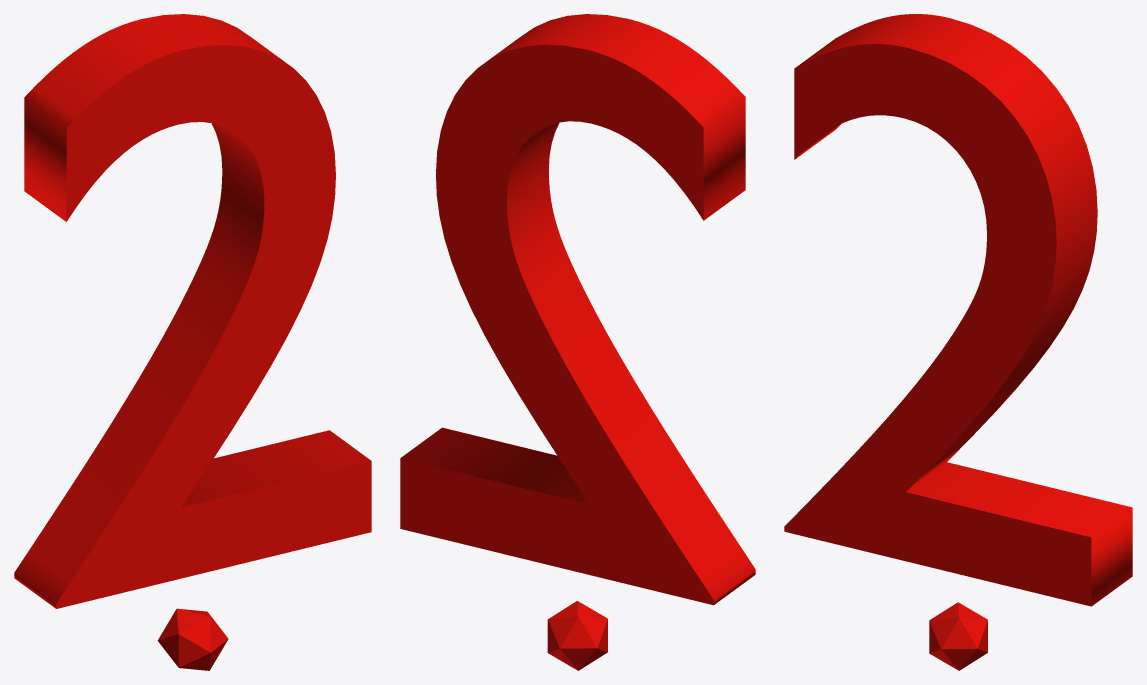
The picture shows the model from 3 angles, left to right: view 1: azimuth 30°, elevation 25°; view 2: azimuth 150°, elevation 25°; view 3: azimuth 330°, elevation 25°; orthographic projection. The views are drawn at different scales.
Parts seen in each view (by area): view 1: 2; view 2: 2; view 3: 2.
Part boxes in pixels (bbox=[...]): 2: bbox=[14, 14, 371, 670]; 2: bbox=[400, 14, 755, 670]; 2: bbox=[784, 14, 1132, 670].
Size of the model in its own units: 0.432 by 0.8377 by 0.1.
